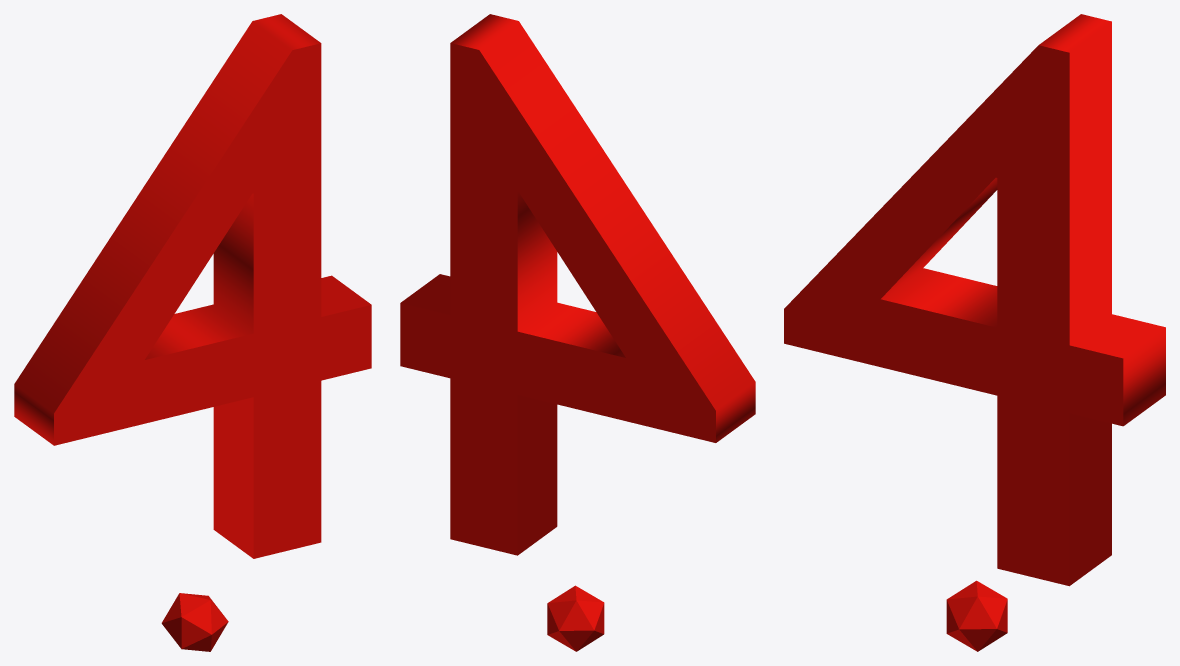
3 views of the same model, side by side, from view 1: azimuth 30°, elevation 25°; view 2: azimuth 150°, elevation 25°; view 3: azimuth 330°, elevation 25° (orthographic). The views are drawn at different scales.
Visible parts, largest first — view 1: 4; view 2: 4; view 3: 4.
Part boxes in pixels (x1=…): 4: x1=14, y1=14, x2=371, y2=651; 4: x1=400, y1=14, x2=755, y2=651; 4: x1=784, y1=14, x2=1165, y2=651.
Size of the model in its own units: 0.46 by 0.8219 by 0.1.
